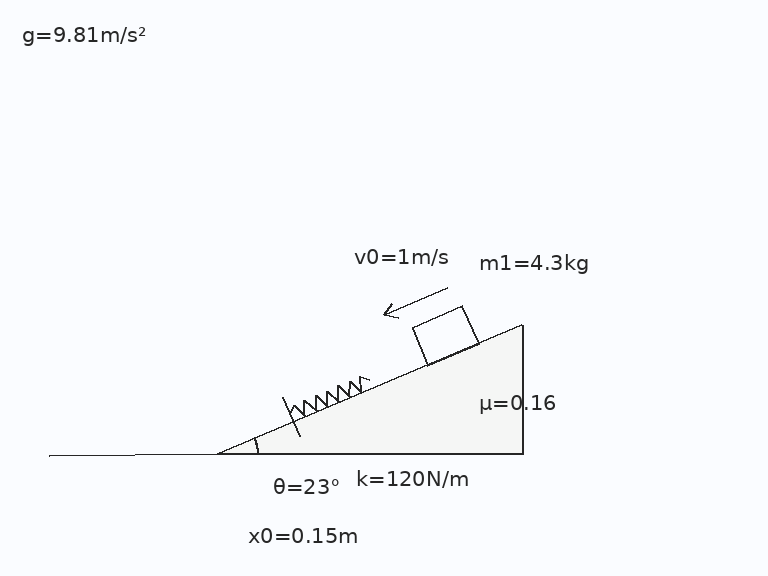block: (409, 304, 481, 367)
ramp: (216, 323, 524, 456)
spring: (288, 374, 371, 417)
